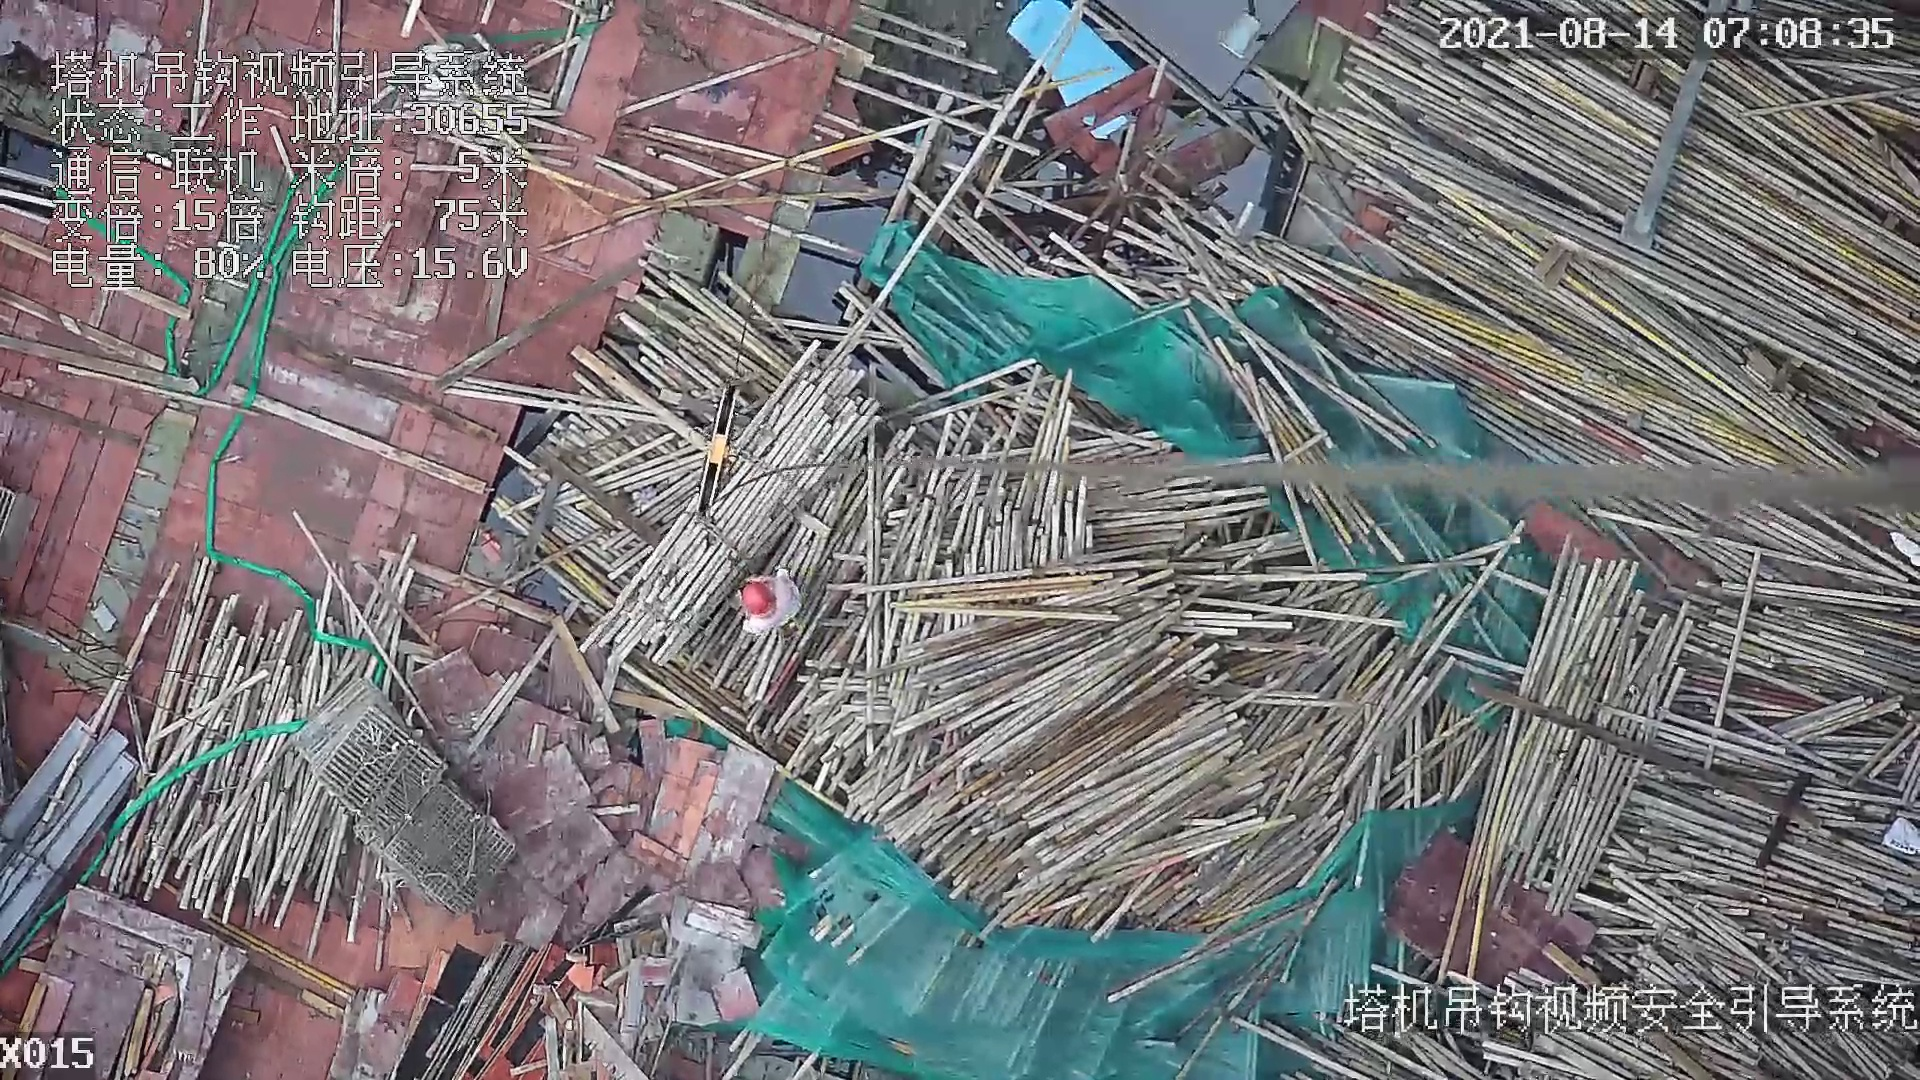helmet: (743, 581, 775, 616)
hook: (686, 377, 744, 521)
person: (735, 574, 813, 646)
